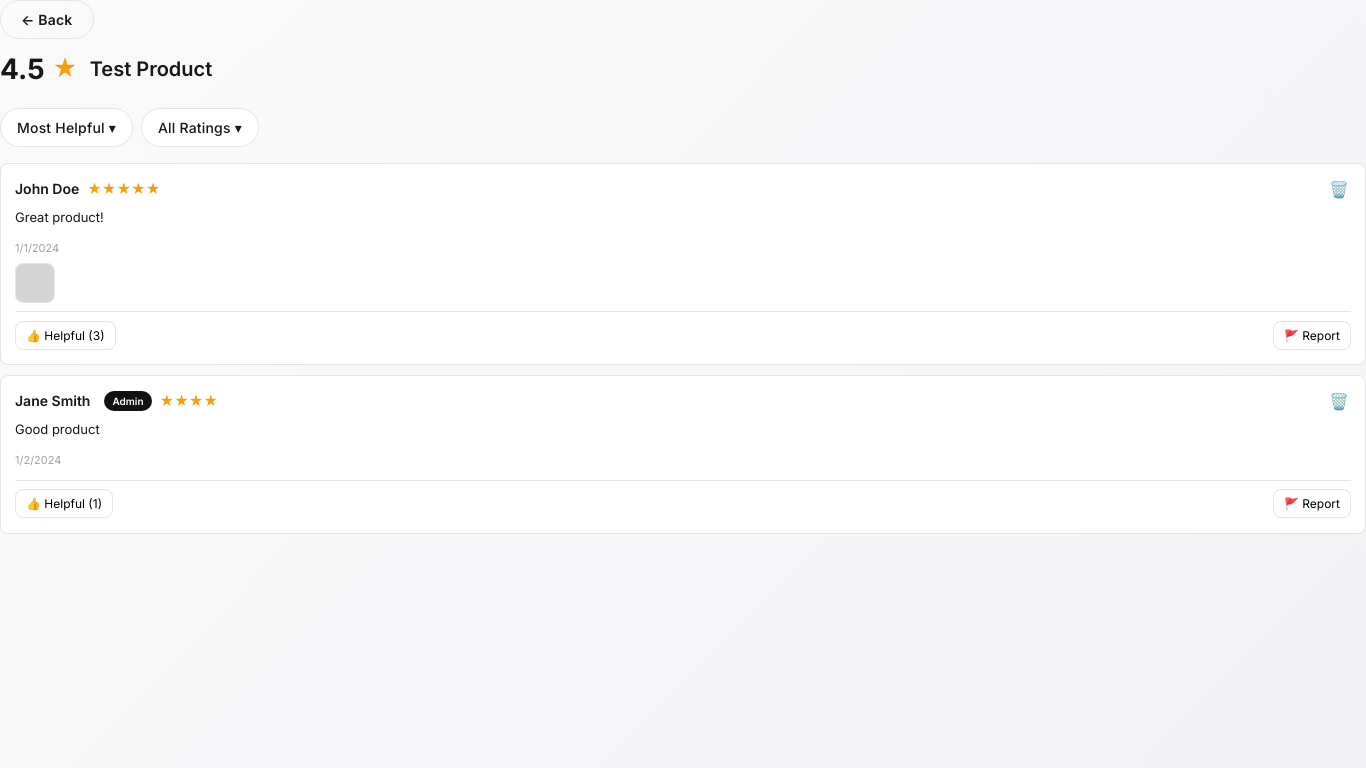
ReviewsPage › Rating Filter › should show rating options when clicked
The width and height of the screenshot is (1366, 768).
Click the button "All Ratings ▾" at (200, 127), box [141,108,259,147]
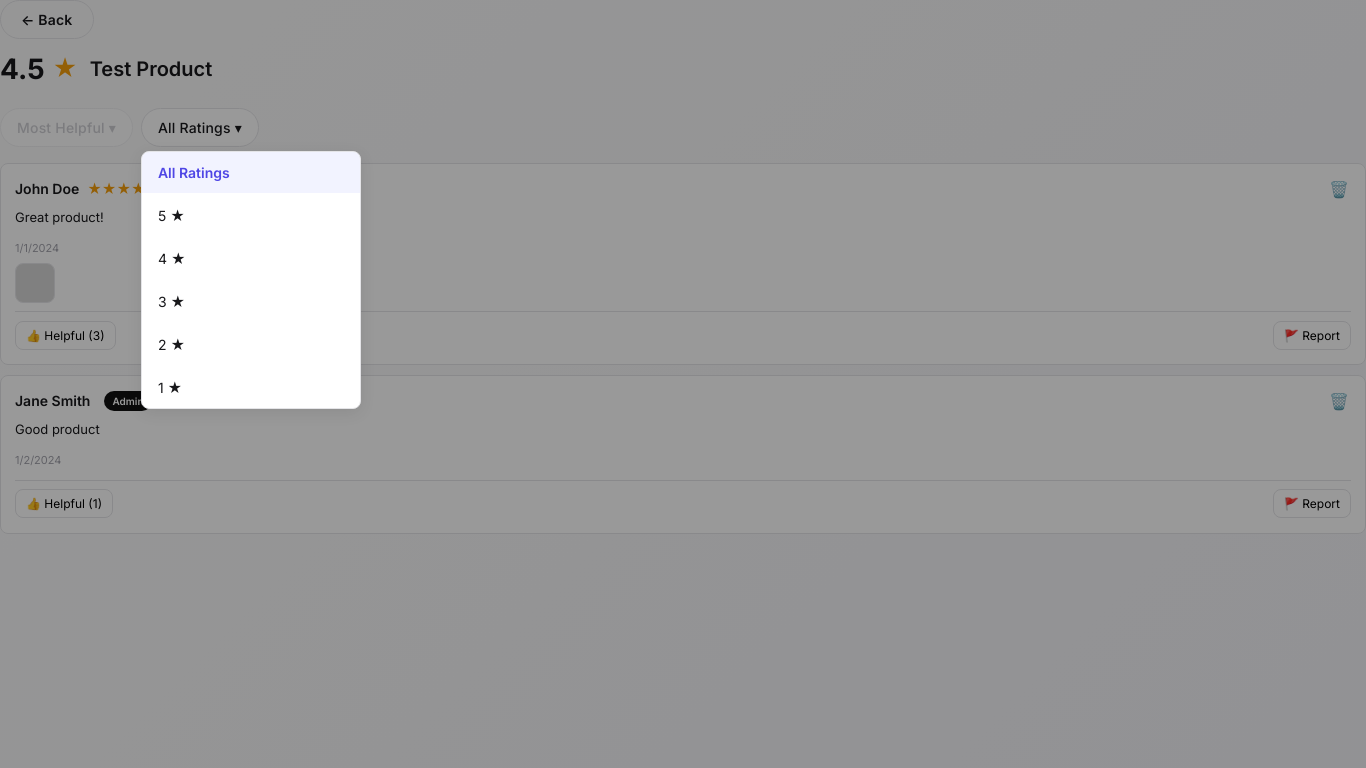
Result: the button "5 ★" is shown at [142,195,360,236]
